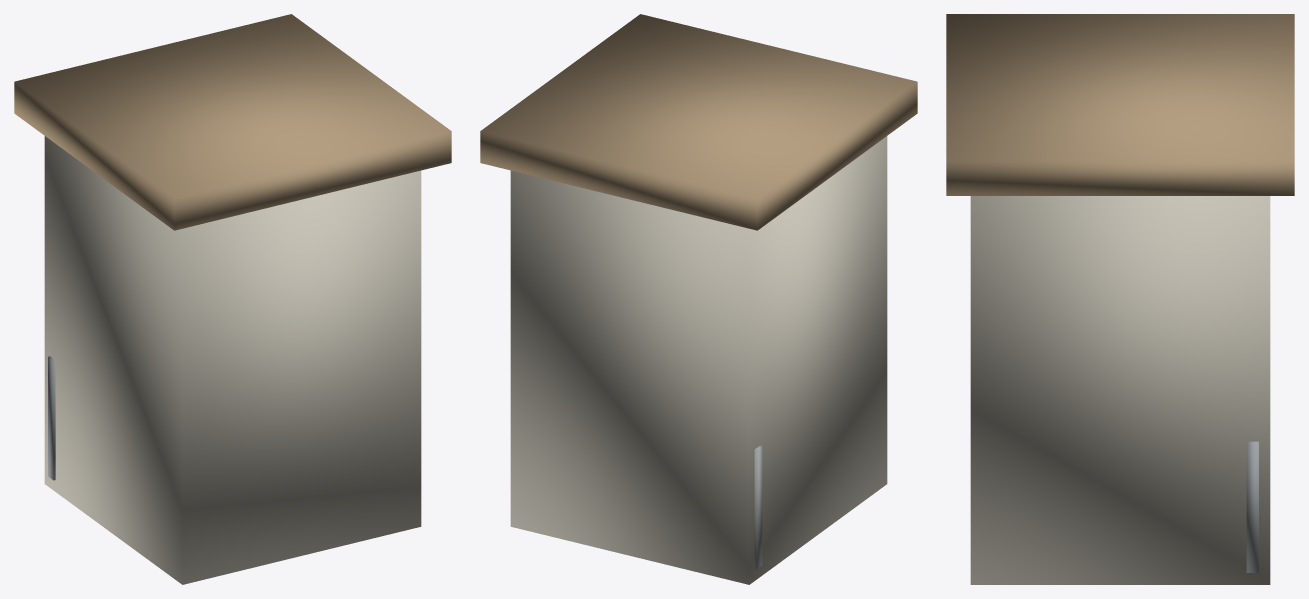
File: museum_display_plinth__reinforced.glb
3 views of the same model, side by side, from view 1: azimuth 30°, elevation 25°; view 2: azimuth 150°, elevation 25°; view 3: azimuth 270°, elevation 25° (orthographic). The views are drawn at different scales.
Parts seen in each view (by area): view 1: world; view 2: world; view 3: world.
Part boxes in pixels (x1,y1,x2,y2): world: [14, 14, 451, 584]; world: [480, 14, 917, 584]; world: [946, 14, 1294, 584].
Bounding box in the file's own units: 0.7416 × 1.02 × 0.7416.
